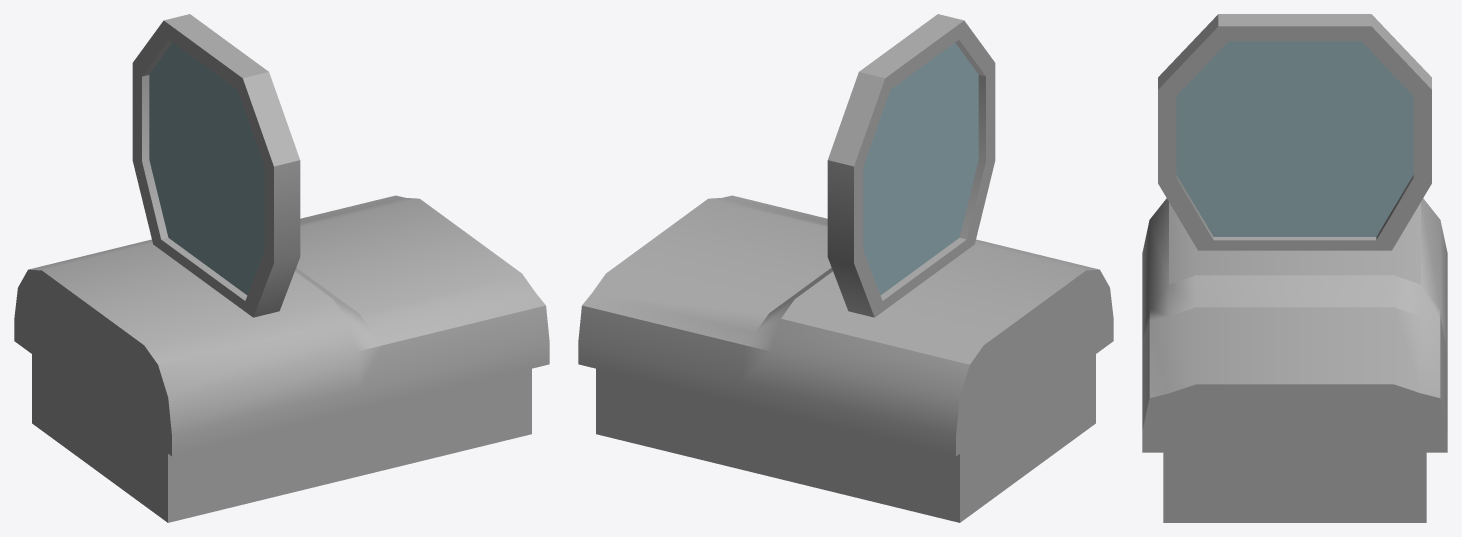
Rendered from Sight_2.gltf.
3 views of the same model, side by side, from view 1: azimuth 30°, elevation 25°; view 2: azimuth 150°, elevation 25°; view 3: azimuth 270°, elevation 25° (orthographic). The views are drawn at different scales.
Parts seen in each view (by area): view 1: Sight_2; view 2: Sight_2; view 3: Sight_2.
Boxes of the visible parts, <box> form: Sight_2: <box>14,14,549,522</box>; Sight_2: <box>578,14,1113,522</box>; Sight_2: <box>1142,14,1447,522</box>.
Bounding box in the file's own units: 0.1406 × 0.1418 × 0.1017.
